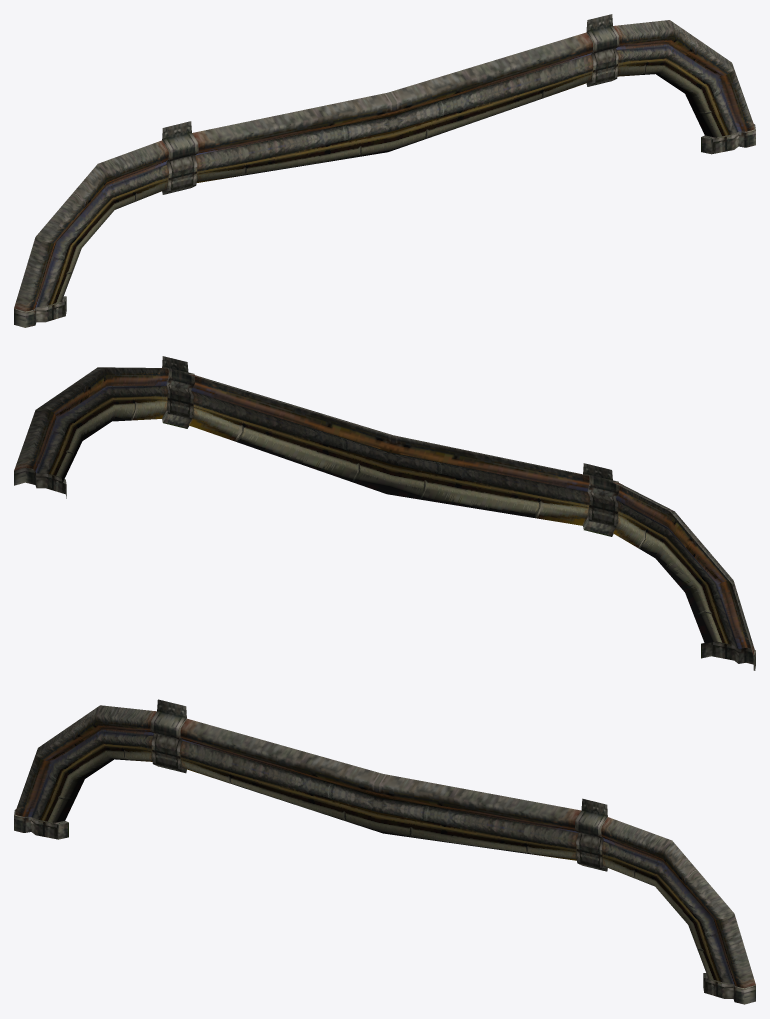
Rendered from M12_SidePipes_Exterior.glb.
3 views of the same model, one above another, from view 1: azimuth 30°, elevation 25°; view 2: azimuth 150°, elevation 25°; view 3: azimuth 330°, elevation 25° (orthographic).
Parts seen in each view (by area): view 1: M12_SIDEPIPES_EXTERIOR; view 2: M12_SIDEPIPES_EXTERIOR; view 3: M12_SIDEPIPES_EXTERIOR.
Boxes of the visible parts, x1,y1,x2,y2 form: M12_SIDEPIPES_EXTERIOR: (14,14,755,327); M12_SIDEPIPES_EXTERIOR: (14,356,755,670); M12_SIDEPIPES_EXTERIOR: (14,699,755,1004).
Bounding box in the file's own units: 7.34 × 1.59 × 0.182.
Materials: 1 (1 with a texture image).
